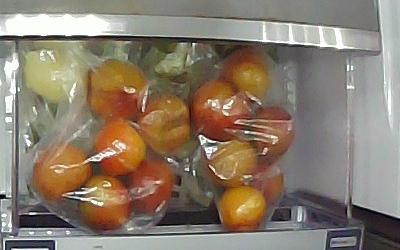prune_vinyl: (86, 58, 150, 118), (31, 143, 92, 204), (191, 79, 249, 140), (141, 94, 191, 156), (78, 174, 130, 232), (92, 121, 147, 174), (200, 139, 260, 187), (125, 158, 174, 215), (250, 105, 296, 164), (220, 50, 271, 101), (216, 186, 268, 232), (251, 164, 285, 205)
